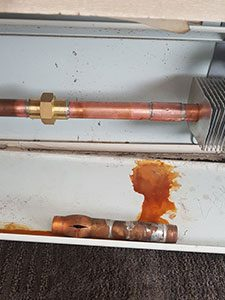rupture: (62, 221, 93, 231)
